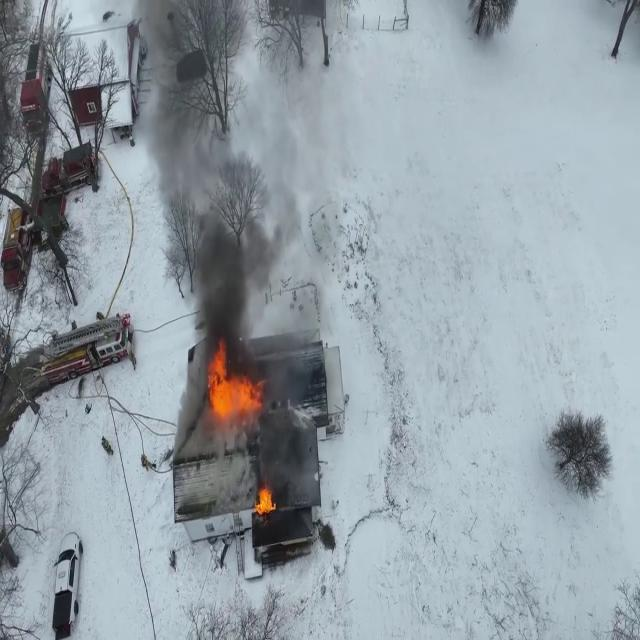Fire: (203, 339, 269, 428), (254, 479, 276, 518)
Smoke: (134, 0, 271, 325)
